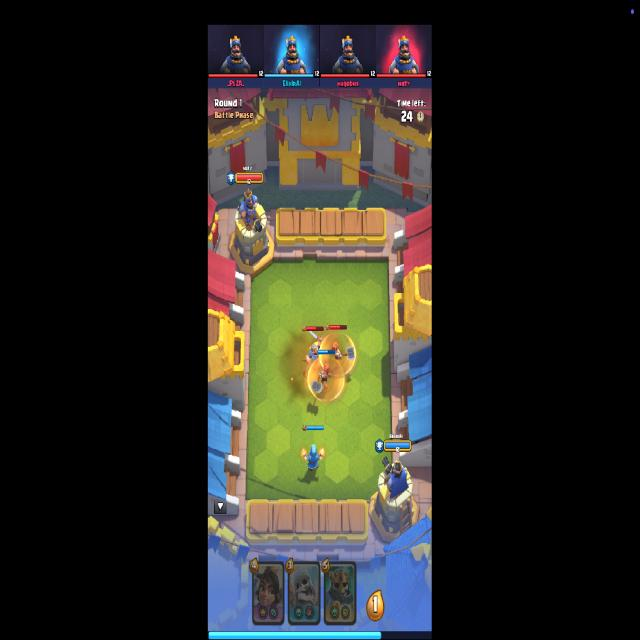card_giant_skeleton: (323, 560, 357, 626), (288, 561, 320, 625)
card_princess: (253, 562, 285, 626)
knight: (303, 329, 322, 367)
valkyrie: (331, 341, 355, 370), (319, 363, 331, 392)
wizard: (302, 444, 324, 471)
